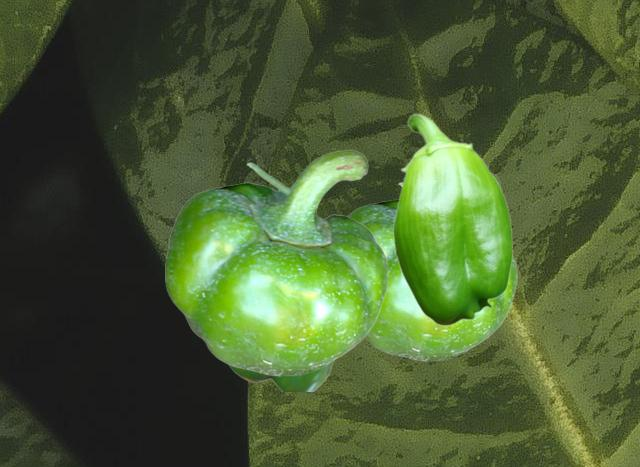bell_pepper: (165, 149, 387, 375), (348, 173, 516, 360), (392, 113, 512, 325), (229, 360, 335, 390)
